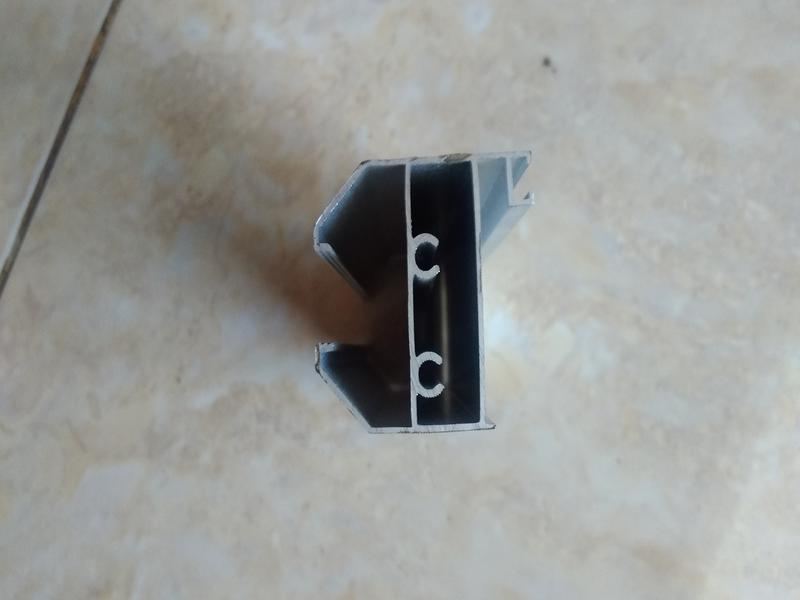Aluminium_3: (276, 136, 565, 461)
